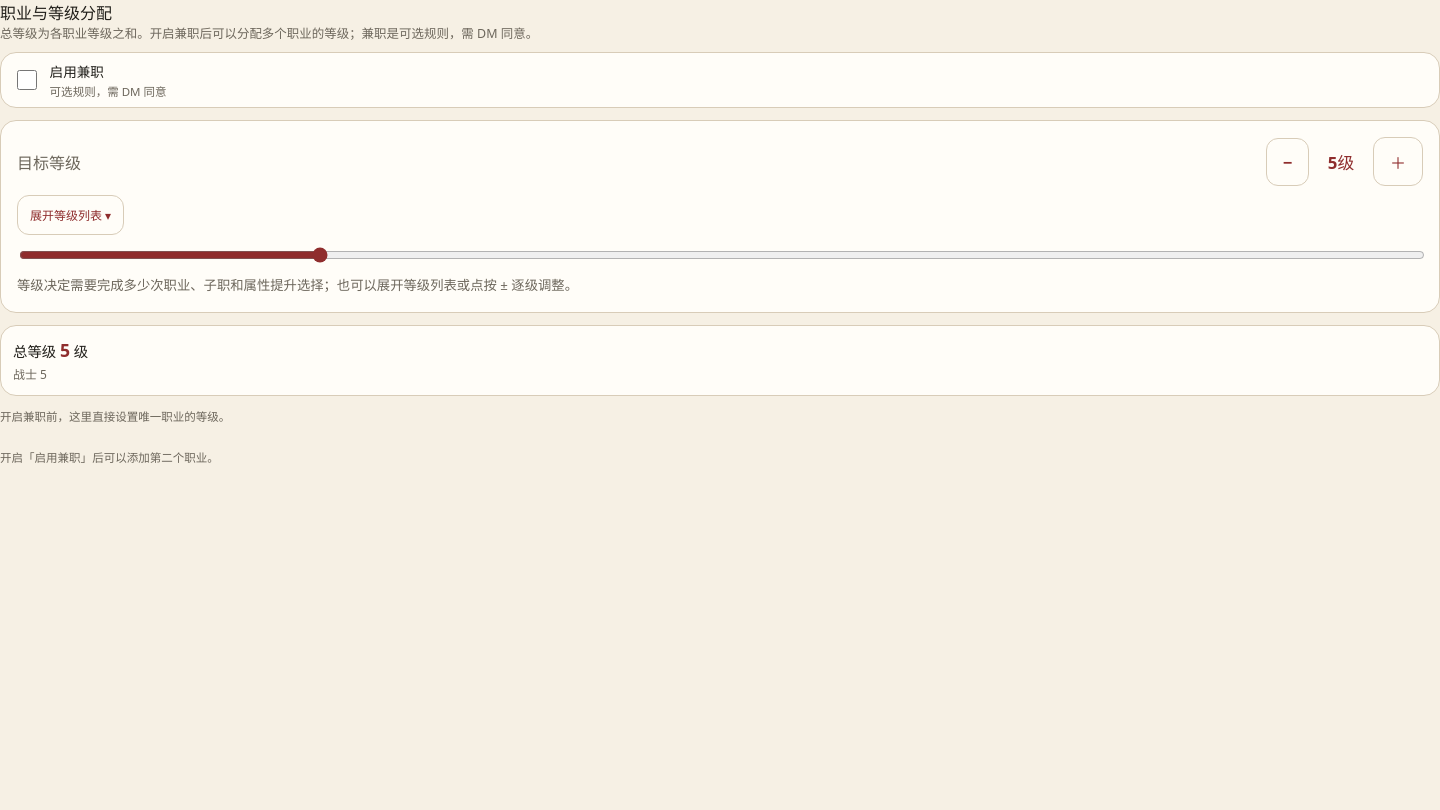
Test: SC-B02 分配控件：启用兼职时选择起始职业 › 开启开关先弹窗，不立即写入数据
Click the checkbox labelled "启用兼职 可选规则，需 DM 同意": coordinates (27, 80) [17, 70, 37, 90]
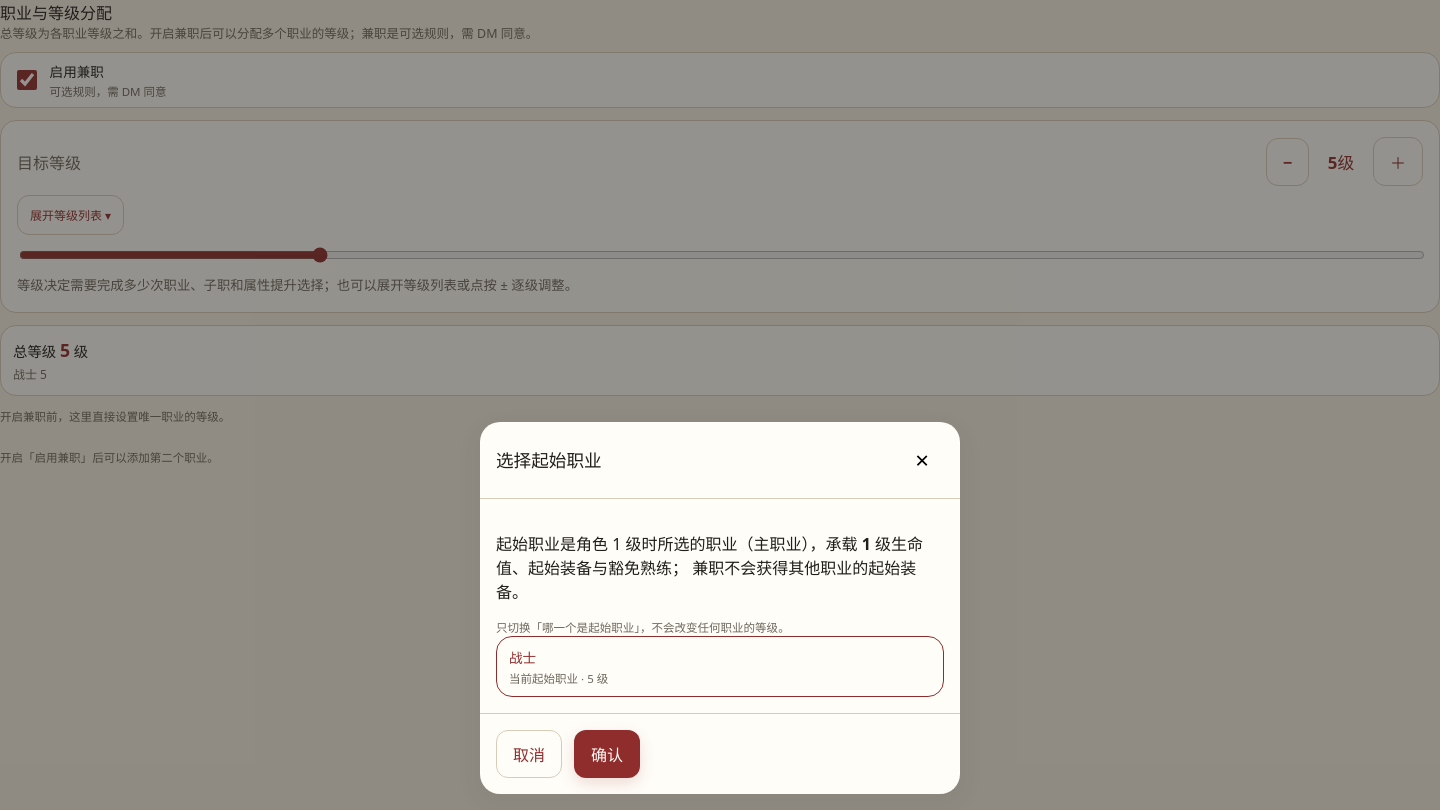
Expected: the text "选择起始职业" is shown, [496, 448, 602, 472]
Expected: the text "1 级生命值、起始装备与豁免熟练" is shown, [496, 533, 923, 579]
